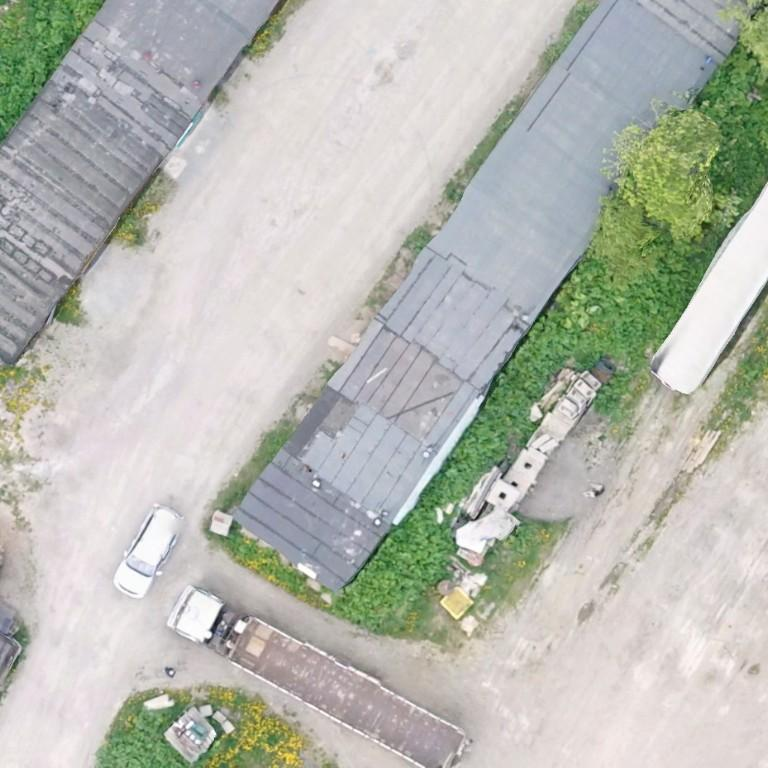hogweed: (334, 333, 573, 630), (0, 0, 105, 141), (600, 257, 701, 353), (703, 80, 767, 195), (96, 707, 191, 767), (593, 374, 629, 414), (511, 526, 532, 552)
